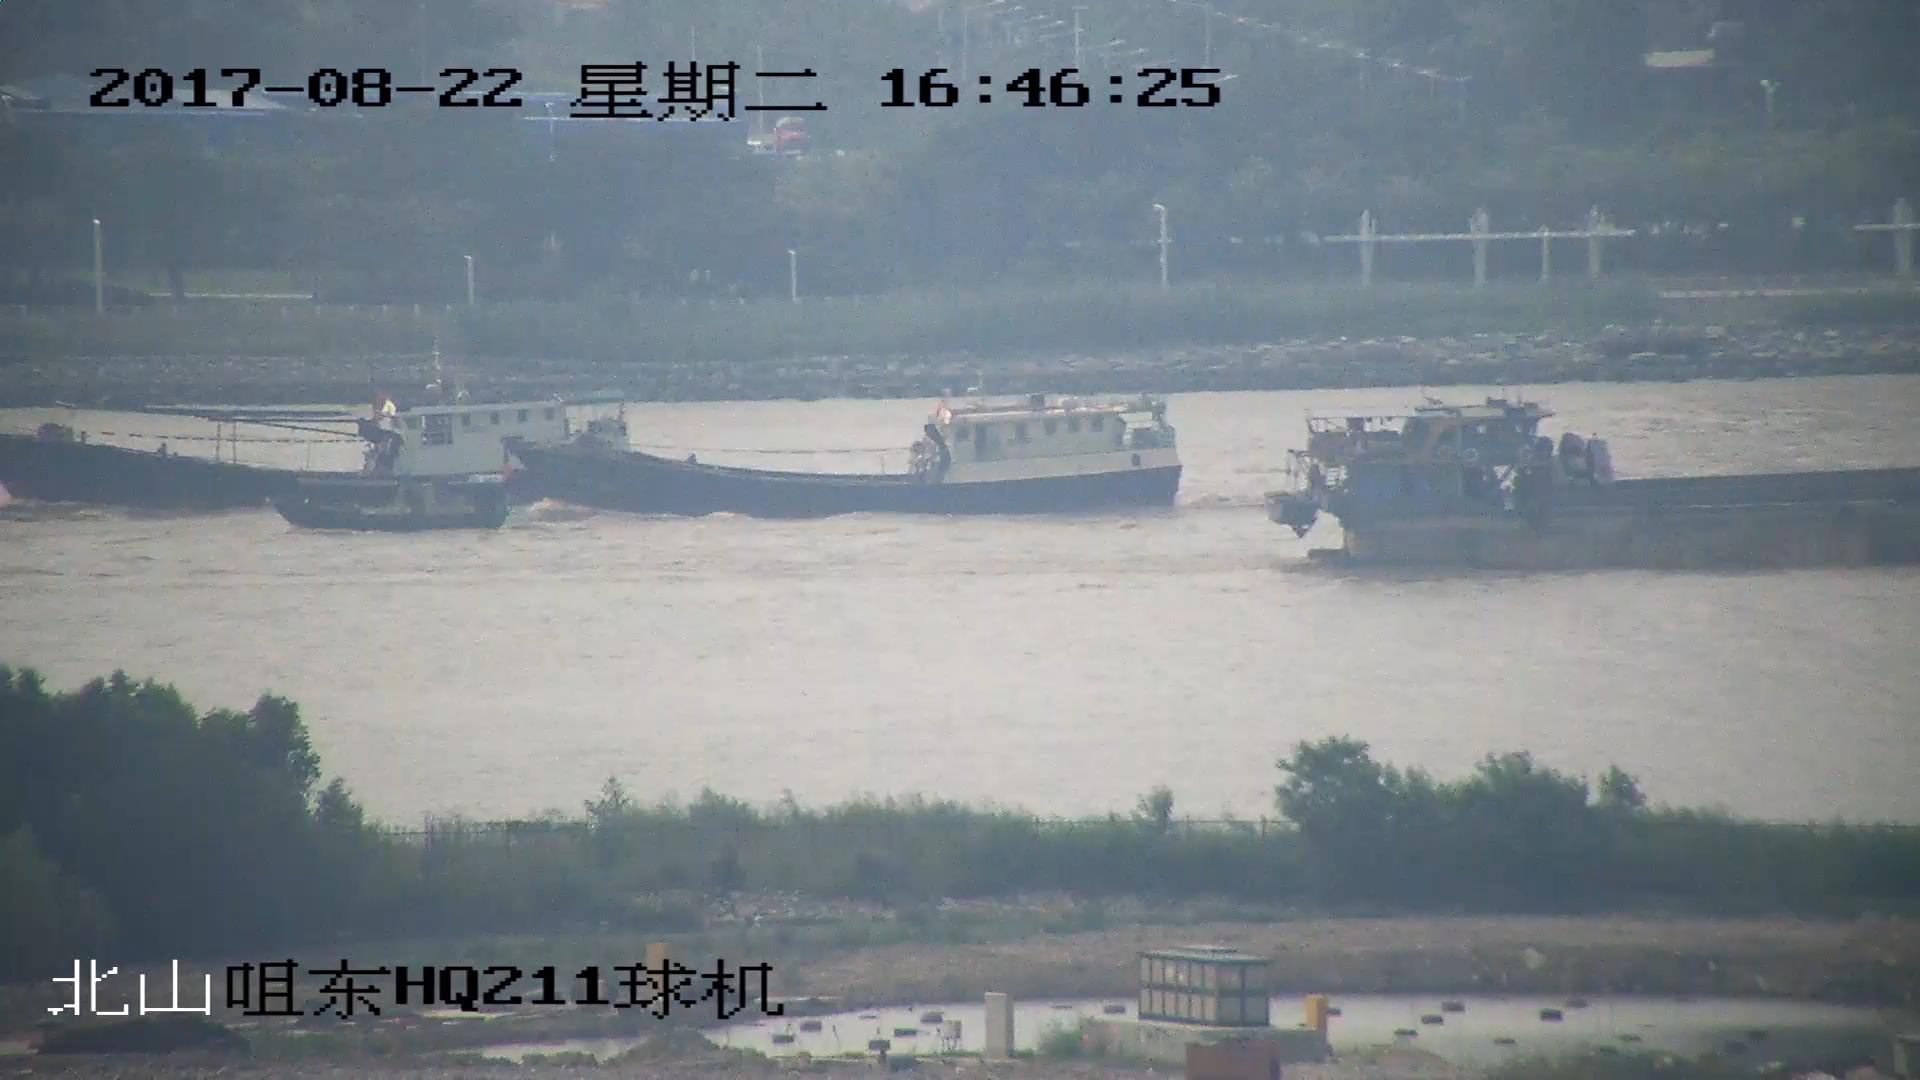bulk cargo carrier: (1272, 407, 1920, 564)
fishing boat: (497, 393, 1178, 510), (1, 390, 580, 514), (284, 474, 508, 539)
